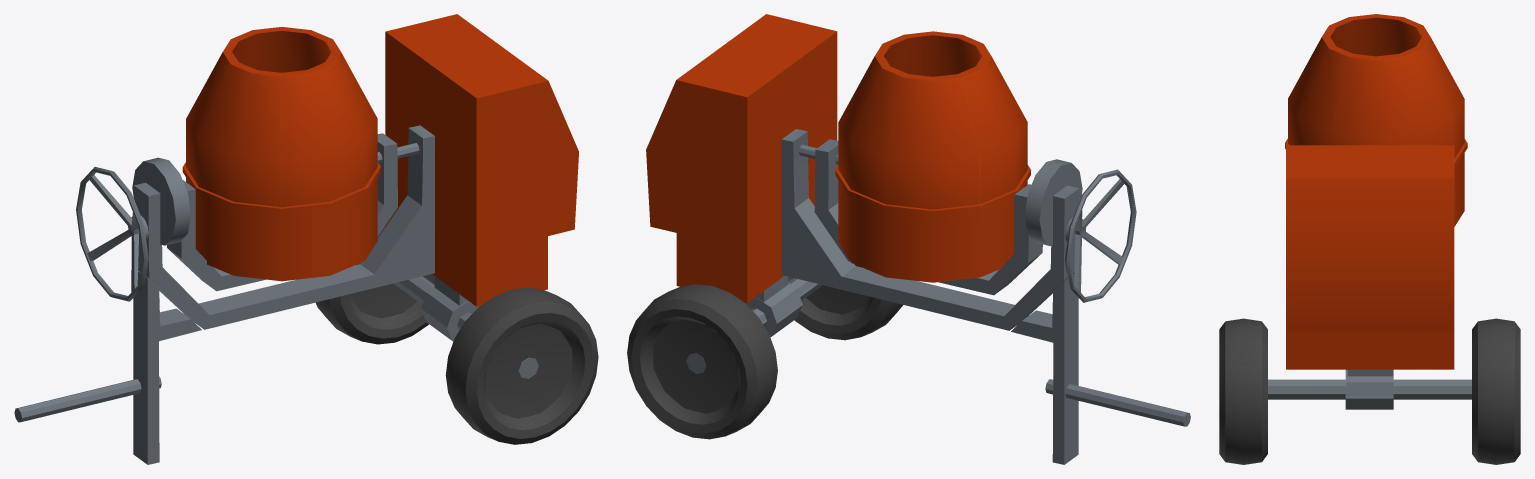
The model's file is betonniere.glb.
3 renders of one model, left to right at view 1: azimuth 30°, elevation 25°; view 2: azimuth 150°, elevation 25°; view 3: azimuth 270°, elevation 25°, orthographic. The views are drawn at different scales.
Visible parts, largest first — view 1: betonniere_chantier; view 2: betonniere_chantier; view 3: betonniere_chantier.
Boxes of the visible parts, x1,y1,x2,y2 form: betonniere_chantier: (14,14,598,464); betonniere_chantier: (627,14,1190,464); betonniere_chantier: (1219,14,1520,464).
Bounding box in the file's own units: 0.2022 × 0.1425 × 0.1126.
1 material, 1 textured.
